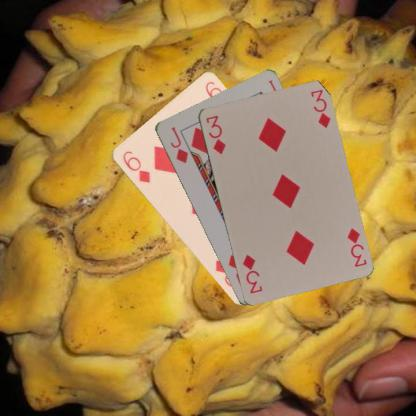3d: (203, 113, 227, 156), (344, 225, 367, 268)
6d: (120, 148, 152, 184)
Jd: (167, 124, 190, 164)
